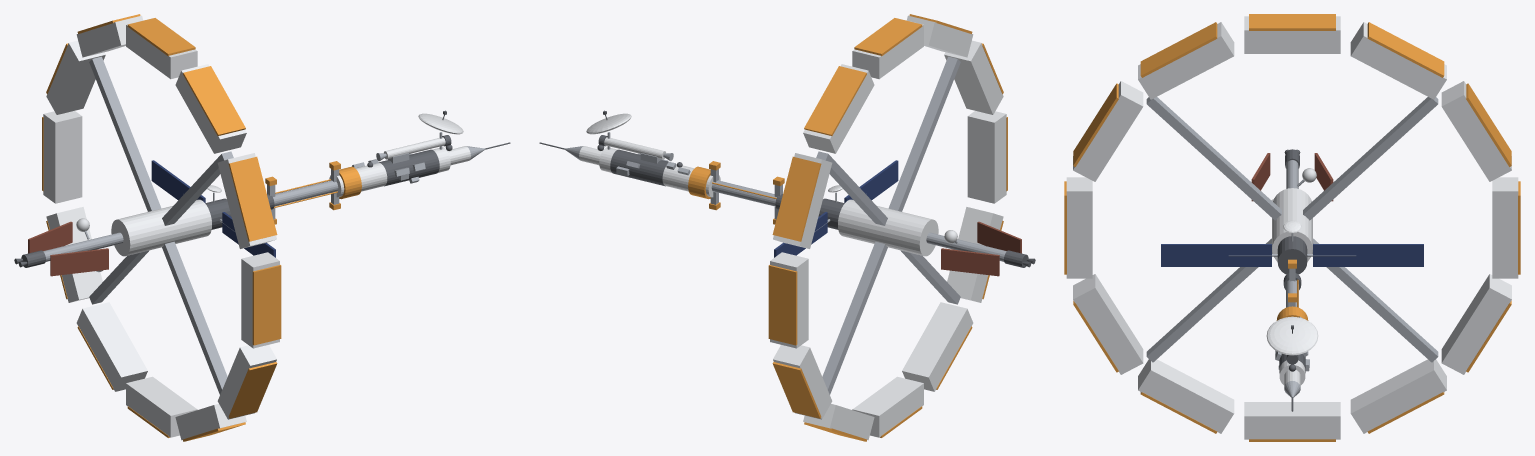
Rendered from uzushio.glb.
The picture shows the model from 3 angles, left to right: view 1: azimuth 30°, elevation 25°; view 2: azimuth 150°, elevation 25°; view 3: azimuth 270°, elevation 25°; orthographic projection. The views are drawn at different scales.
Visible parts, largest first — view 1: uzushio_ring_seg_00, uzushio_ring_seg_10, uzushio_ring_hub, uzushio_ring_band_05, uzushio_ring_spoke_0, uzushio_ring_seg_01, uzushio_ring_seg_09, uzushio_ring_band_06, uzushio_ring_spoke_2, uzushio_ring_band_04, uzushio_ring_seg_11, uzushio_ring_seg_07 (+21 smaller); view 2: uzushio_ring_seg_06, uzushio_ring_seg_08, uzushio_ring_hub, uzushio_ring_band_01, uzushio_ring_spoke_1, uzushio_ring_seg_05, uzushio_ring_seg_09, uzushio_ring_band_00, uzushio_ring_spoke_3, uzushio_ring_band_02, uzushio_ring_seg_07, uzushio_ring_seg_11 (+21 smaller); view 3: uzushio_ring_seg_09, uzushio_ring_seg_08, uzushio_ring_seg_10, uzushio_ring_seg_07, uzushio_ring_seg_11, uzushio_ring_seg_00, uzushio_ring_seg_01, uzushio_ring_seg_05, uzushio_ring_seg_06, uzushio_ring_seg_02, uzushio_ring_seg_04, uzushio_solar_0 (+14 smaller).
Boxes of the visible parts, bbox=[...] form: uzushio_ring_seg_00: bbox=[43, 110, 82, 203]; uzushio_ring_seg_10: bbox=[76, 302, 147, 391]; uzushio_ring_hub: bbox=[111, 199, 211, 256]; uzushio_ring_band_05: bbox=[228, 156, 277, 241]; uzushio_ring_spoke_0: bbox=[89, 56, 161, 211]; uzushio_ring_seg_01: bbox=[46, 40, 105, 114]; uzushio_ring_seg_09: bbox=[126, 376, 197, 437]; uzushio_ring_band_06: bbox=[252, 265, 281, 345]; uzushio_ring_spoke_2: bbox=[162, 241, 227, 394]; uzushio_ring_band_04: bbox=[183, 66, 245, 135]; uzushio_ring_seg_11: bbox=[46, 207, 102, 302]; uzushio_ring_seg_07: bbox=[217, 345, 276, 419]; uzushio_ring_seg_06: bbox=[967, 110, 1006, 203]; uzushio_ring_seg_08: bbox=[902, 302, 973, 391]; uzushio_ring_hub: bbox=[838, 199, 938, 256]; uzushio_ring_band_01: bbox=[772, 156, 821, 241]; uzushio_ring_spoke_1: bbox=[888, 56, 960, 211]; uzushio_ring_seg_05: bbox=[944, 40, 1003, 114]; uzushio_ring_seg_09: bbox=[852, 376, 923, 437]; uzushio_ring_band_00: bbox=[768, 265, 797, 345]; uzushio_ring_spoke_3: bbox=[822, 241, 887, 394]; uzushio_ring_band_02: bbox=[804, 66, 866, 135]; uzushio_ring_seg_07: bbox=[947, 207, 1003, 302]; uzushio_ring_seg_11: bbox=[773, 345, 832, 419]; uzushio_ring_seg_09: bbox=[1244, 402, 1340, 439]; uzushio_ring_seg_08: bbox=[1138, 359, 1234, 433]; uzushio_ring_seg_10: bbox=[1350, 359, 1446, 433]; uzushio_ring_seg_07: bbox=[1073, 274, 1143, 374]; uzushio_ring_seg_11: bbox=[1441, 274, 1511, 374]; uzushio_ring_seg_00: bbox=[1492, 177, 1518, 278]; uzushio_ring_seg_01: bbox=[1441, 81, 1511, 181]; uzushio_ring_seg_05: bbox=[1073, 81, 1143, 181]; uzushio_ring_seg_06: bbox=[1066, 177, 1092, 278]; uzushio_ring_seg_02: bbox=[1350, 22, 1446, 99]; uzushio_ring_seg_04: bbox=[1138, 22, 1234, 99]; uzushio_solar_0: bbox=[1313, 244, 1423, 266].
Size of the model in its own units: 661 by 493 by 493.
